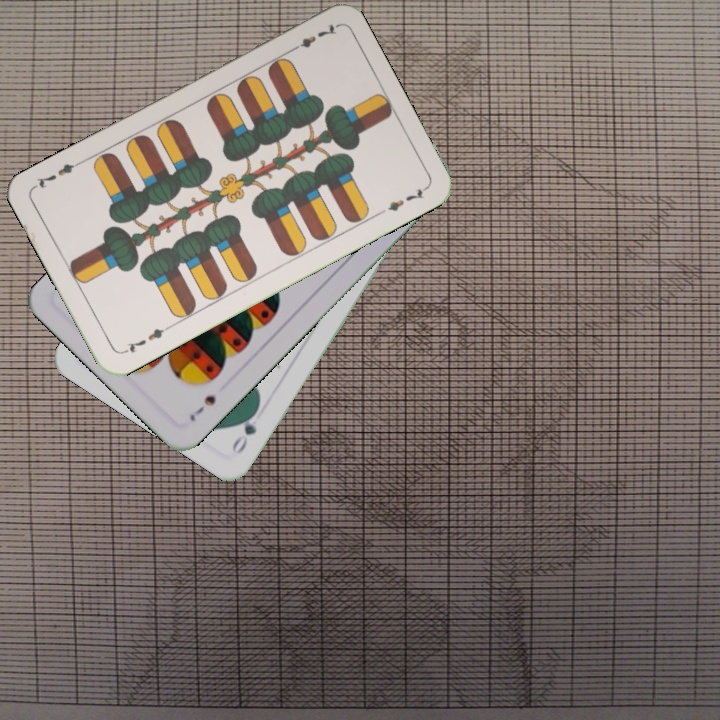E7: (118, 321, 173, 357), (285, 20, 340, 55)
GO: (228, 403, 262, 457)
S7: (185, 391, 219, 425)
